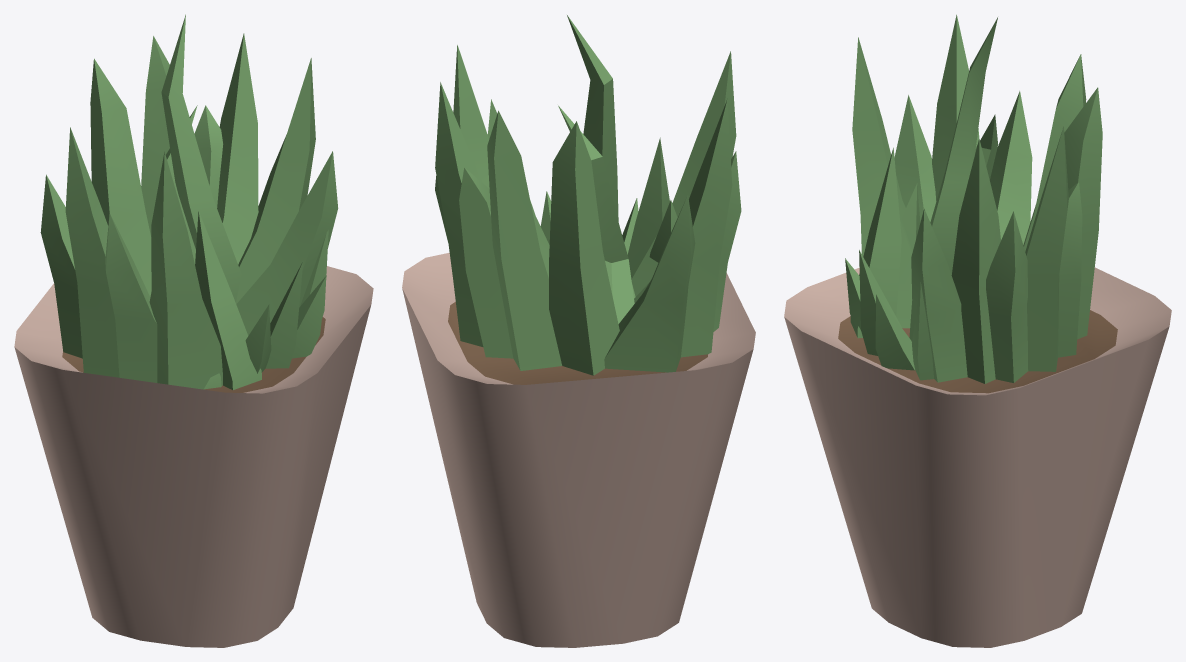
Rendered from Plant B.fbx.
The picture shows the model from 3 angles, left to right: view 1: azimuth 30°, elevation 25°; view 2: azimuth 150°, elevation 25°; view 3: azimuth 270°, elevation 25°; orthographic projection. The views are drawn at different scales.
Parts seen in each view (by area): view 1: Plant B; view 2: Plant B; view 3: Plant B.
Boxes of the visible parts, box(x1,y1,x2,y2) form: Plant B: box(14, 14, 373, 647); Plant B: box(402, 15, 755, 647); Plant B: box(784, 14, 1171, 647).
Bounding box in the file's own units: 0.1571 × 0.2628 × 0.1571.
